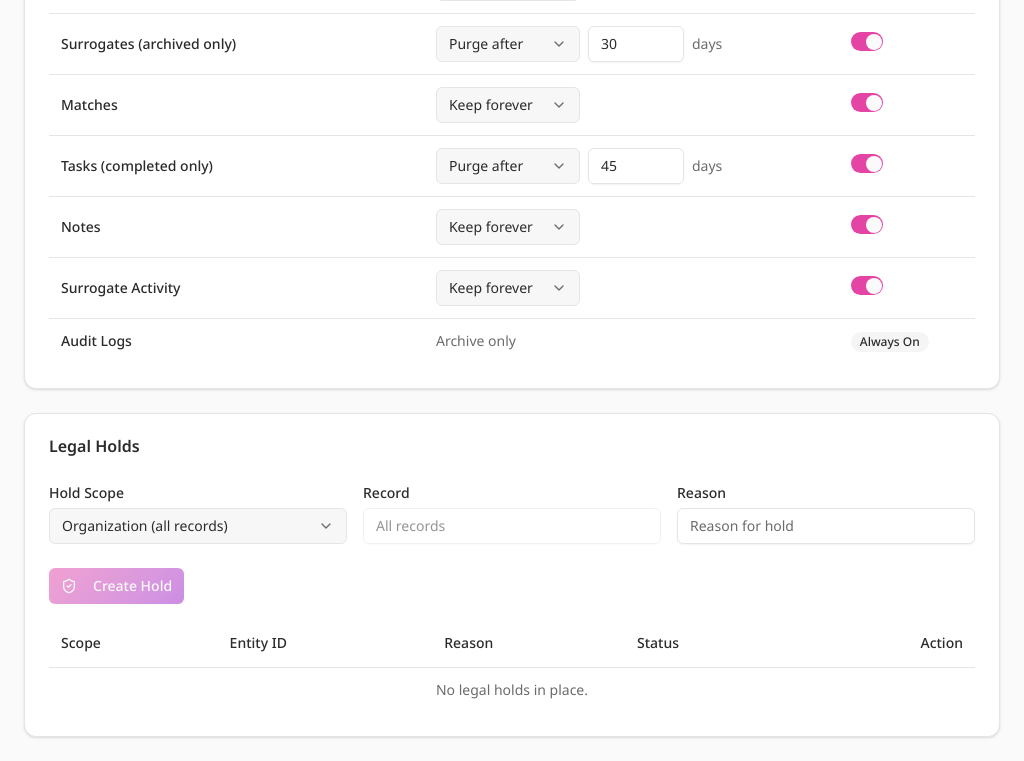
it: Compliance settings page › exposes donor retention and legal-hold controls
(page scrolled)
Click the dropdown named "Hold Scope".
click(198, 526)  # box [49,508,347,544]
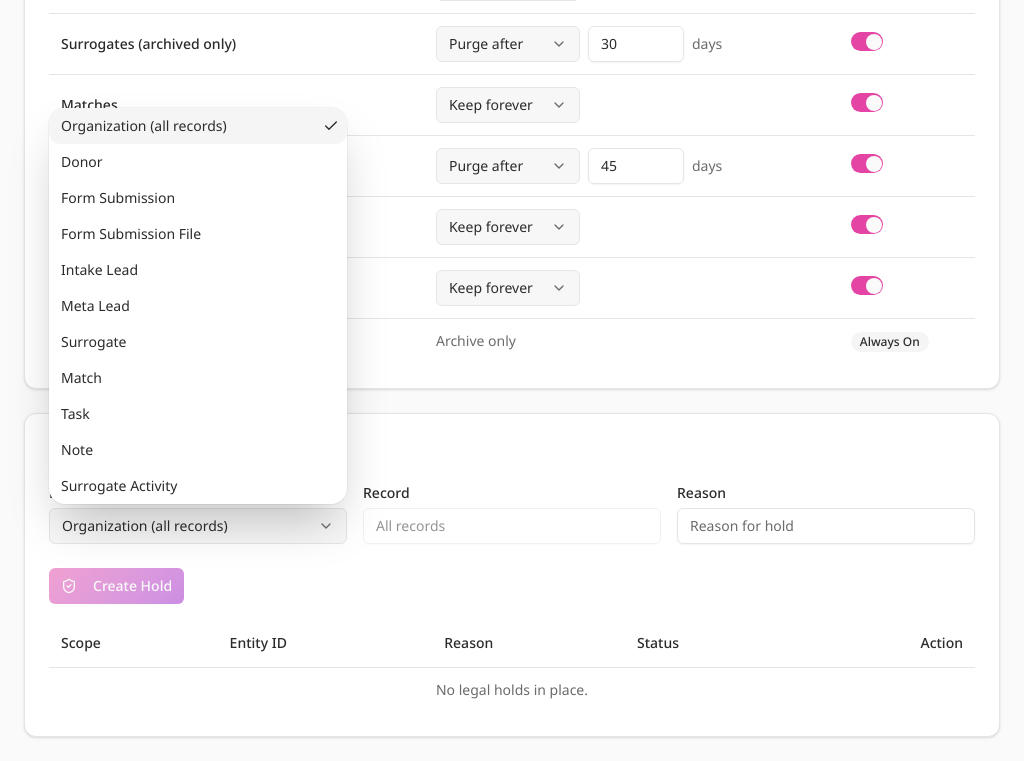
Now the option "Donor" is shown, box [61,152,103,171]
